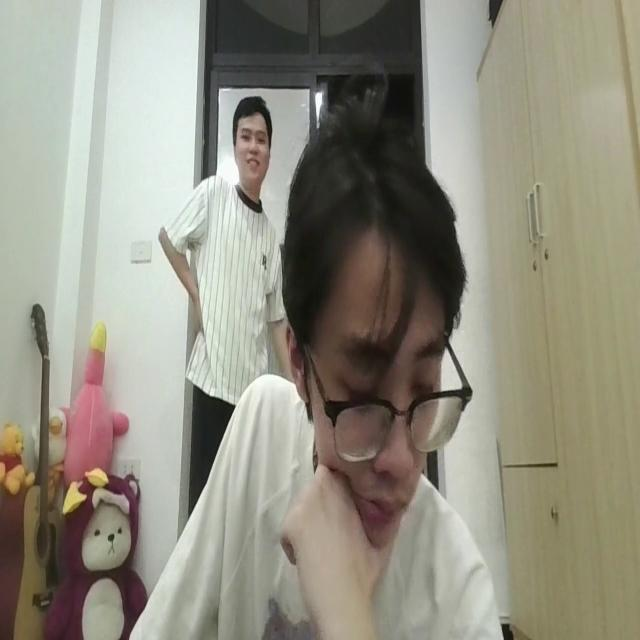extra_person: (159, 96, 288, 392)
student: (157, 99, 504, 640)
